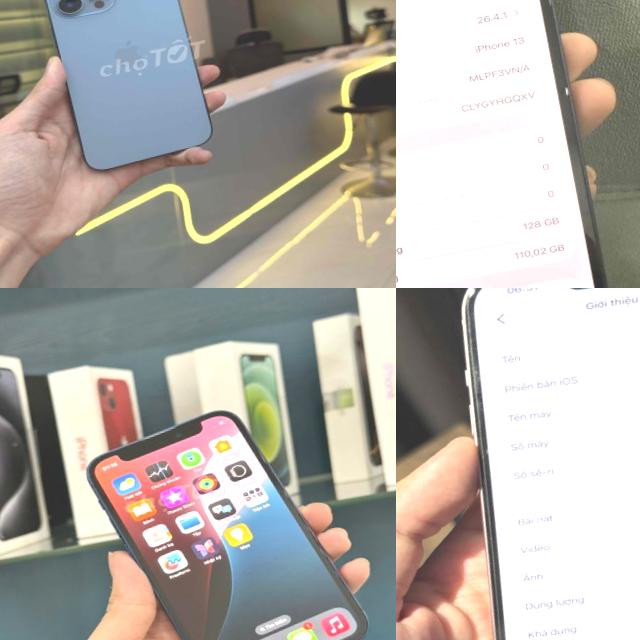gen_12_13: (80, 388, 380, 640), (396, 0, 619, 288), (39, 0, 222, 184)
gen_15: (414, 288, 640, 640)
